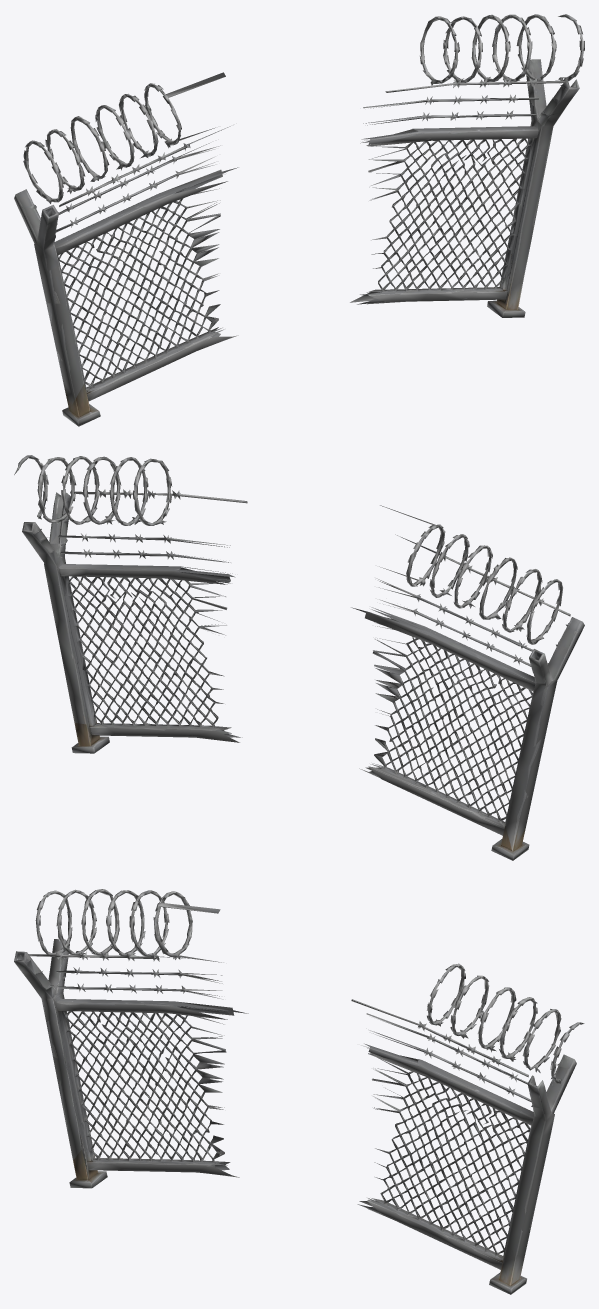
The model's file is fence_wreck.glb.
The picture shows the model from 3 angles, top to bottom: view 1: azimuth 30°, elevation 25°; view 2: azimuth 150°, elevation 25°; view 3: azimuth 330°, elevation 25°; orthographic projection.
Visible parts, largest first — view 1: wall.001; view 2: wall.001; view 3: wall.001.
Boxes of the visible parts, x1,y1,x2,y2 form: wall.001: (14, 14, 584, 426); wall.001: (14, 455, 584, 860); wall.001: (14, 889, 584, 1294).
Size of the model in its own units: 3.63 by 1.99 by 0.4756.
Materials: 1 (1 with a texture image).
